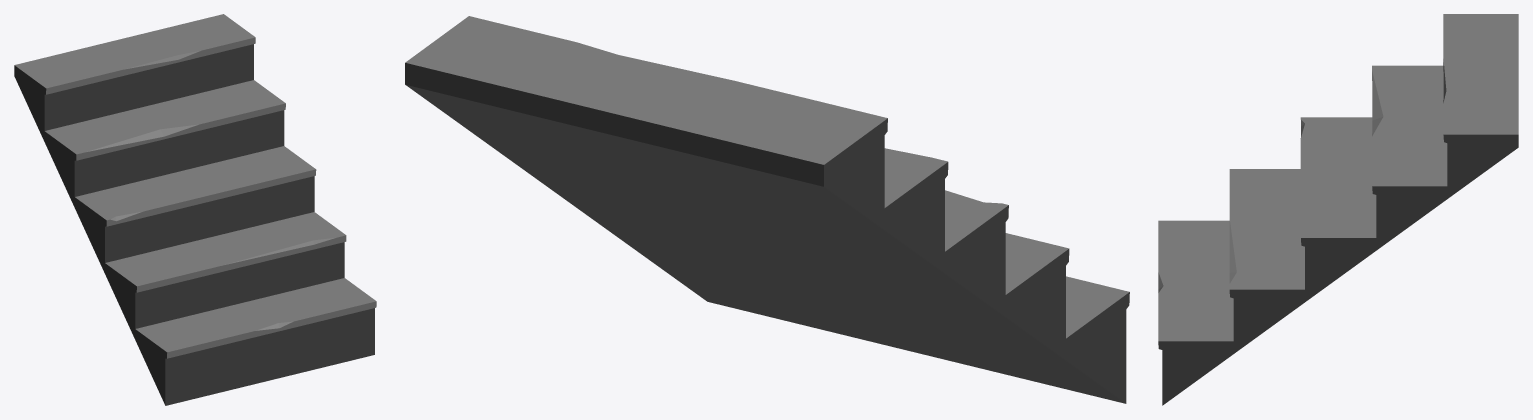
Rendered from SW_ENV_StationStair_Steps_5.fbx.
The picture shows the model from 3 angles, left to right: view 1: azimuth 30°, elevation 25°; view 2: azimuth 150°, elevation 25°; view 3: azimuth 270°, elevation 25°; orthographic projection. The views are drawn at different scales.
Parts seen in each view (by area): view 1: SW_ENV_StationStair_Steps_5; view 2: SW_ENV_StationStair_Steps_5; view 3: SW_ENV_StationStair_Steps_5.
Part boxes in pixels (x1,y1,x2,y2): SW_ENV_StationStair_Steps_5: (14,14,376,405); SW_ENV_StationStair_Steps_5: (405,16,1129,403); SW_ENV_StationStair_Steps_5: (1158,14,1518,405).
Size of the model in its own units: 100 by 105 by 126.
